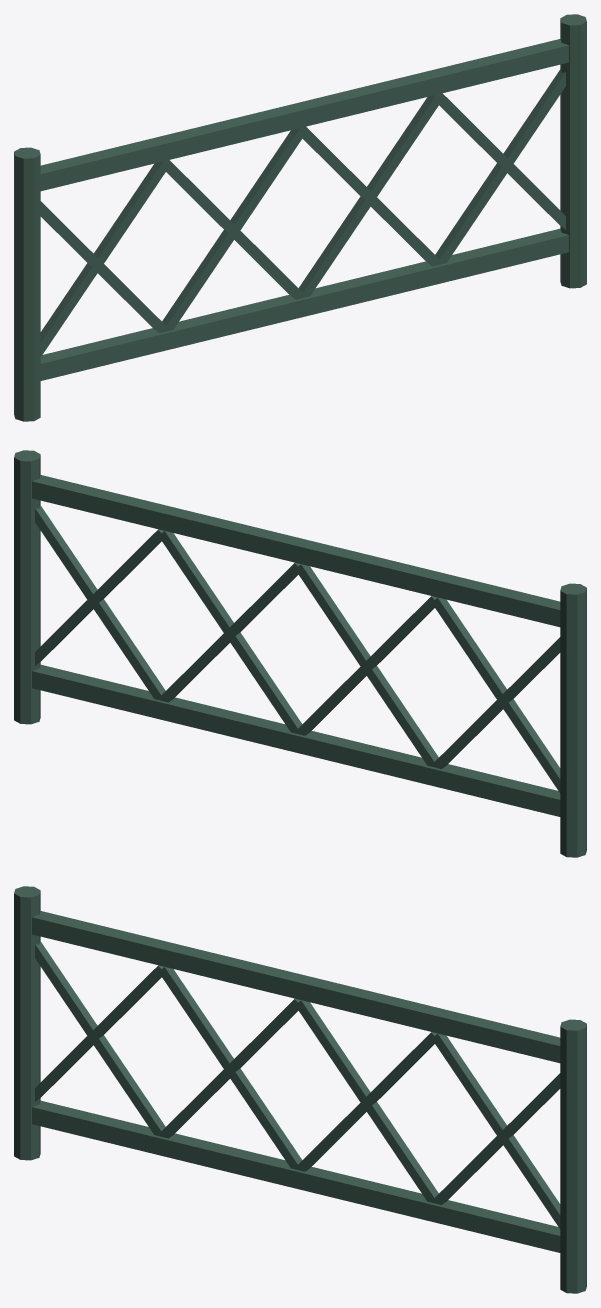
Rendered from railing.glb.
3 views of the same model, one above another, from view 1: azimuth 30°, elevation 25°; view 2: azimuth 150°, elevation 25°; view 3: azimuth 330°, elevation 25° (orthographic).
Visible parts, largest first — view 1: railing_p9_iron; view 2: railing_p9_iron; view 3: railing_p9_iron.
Part boxes in pixels (x1=…): railing_p9_iron: x1=14, y1=14, x2=586, y2=421; railing_p9_iron: x1=14, y1=450, x2=586, y2=857; railing_p9_iron: x1=14, y1=886, x2=586, y2=1293.
Bounding box in the file's own units: 2.61 × 1.15 × 0.11.
